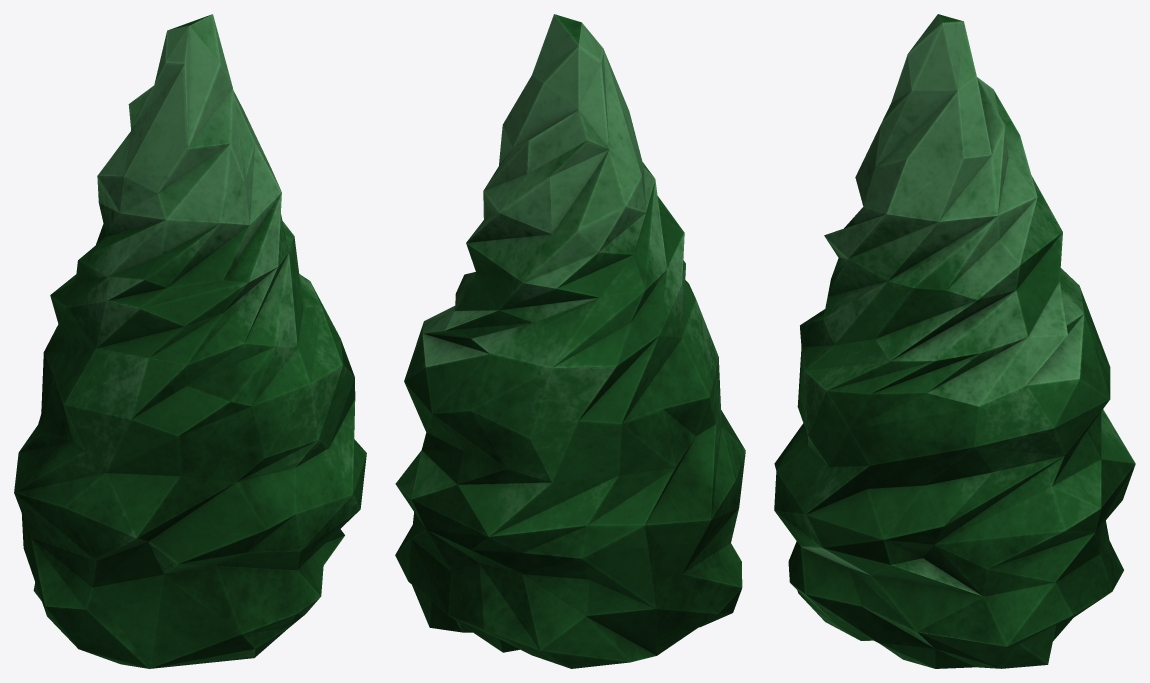
File: 002ce822-7954-4ae9-b1f3-cab356cbe924.glb
3 renders of one model, left to right at view 1: azimuth 30°, elevation 25°; view 2: azimuth 150°, elevation 25°; view 3: azimuth 270°, elevation 25°, orthographic. The views are drawn at different scales.
Visible parts, largest first — view 1: FirTree_mesh; view 2: FirTree_mesh; view 3: FirTree_mesh.
Boxes of the visible parts, x1,y1,x2,y2 form: FirTree_mesh: [14, 14, 366, 668]; FirTree_mesh: [395, 14, 745, 668]; FirTree_mesh: [774, 14, 1135, 668].
Size of the model in its own units: 8.24 by 15.48 by 8.29.
Materials: 1 (1 with a texture image).
